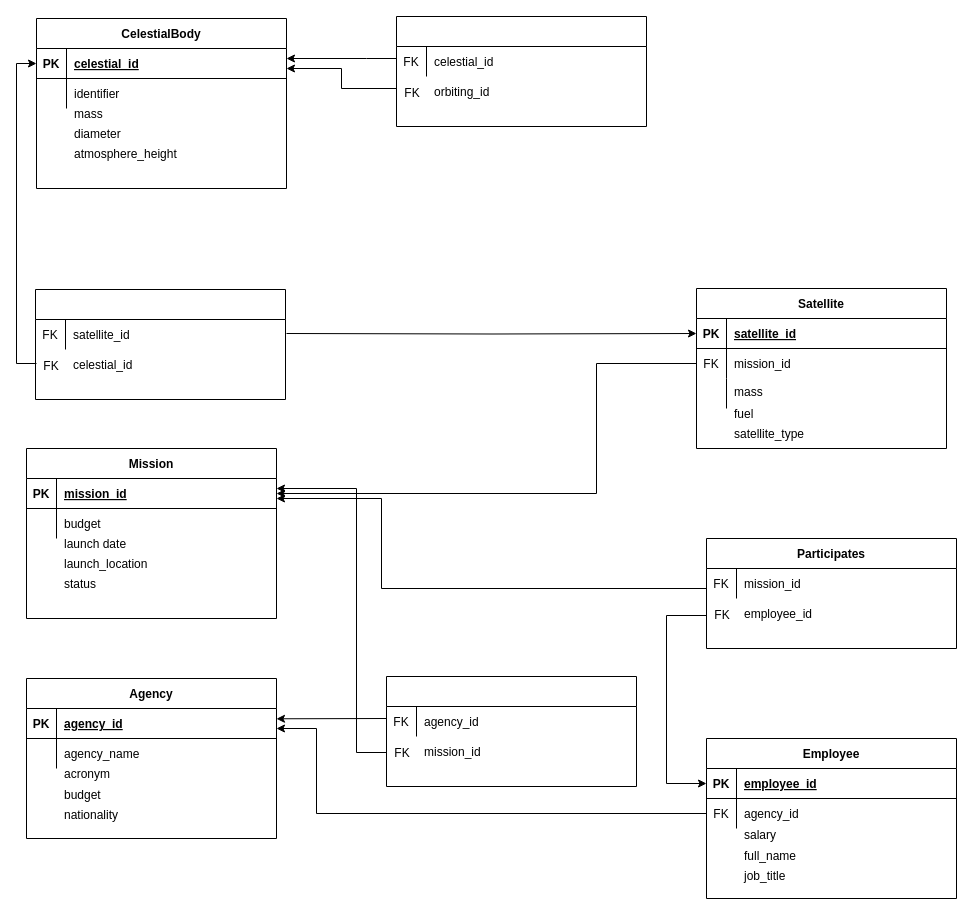
The diagram is 974 pixels wide and 915 high, and some of its shapes have lost their labels. The box of each missing label's shape, as (x1, y1, x2, y2) in pixels:
CelestialOrbit: (396, 16, 646, 126)
Launches: (386, 676, 636, 786)
Orbit: (34, 288, 286, 400)
